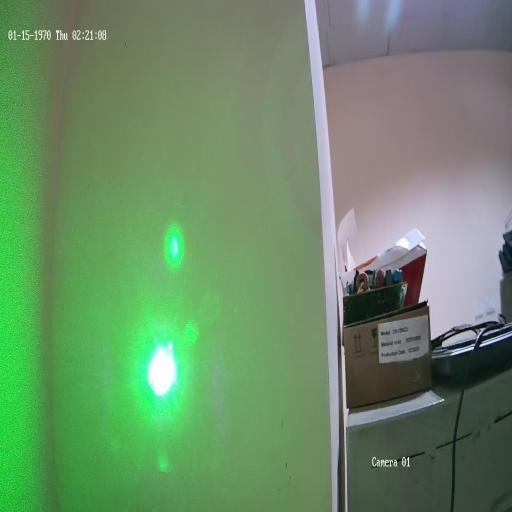laser: (142, 330, 178, 406)
